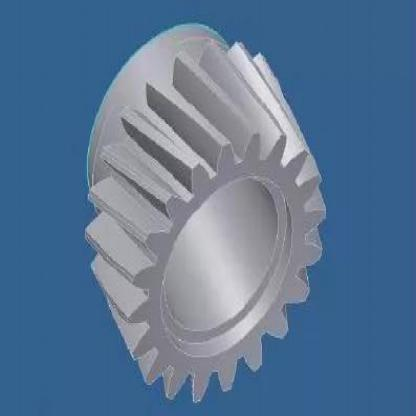FOD: (81, 17, 330, 409)
